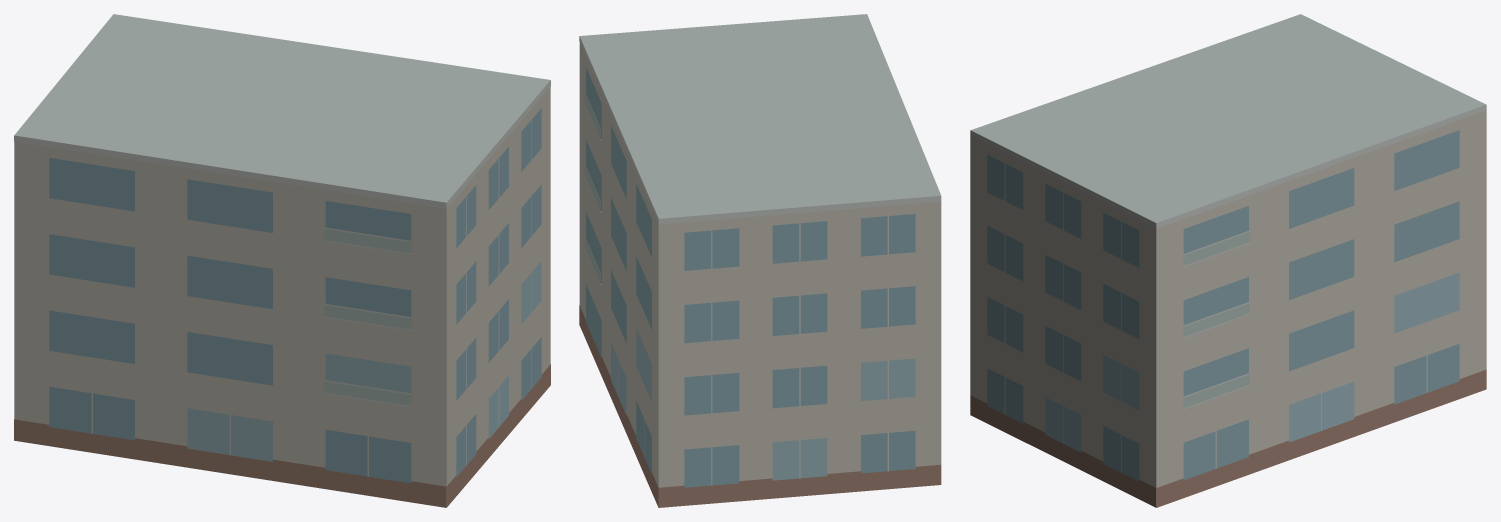
File: survey-upis-32768461.glb
3 views of the same model, side by side, from view 1: azimuth 30°, elevation 25°; view 2: azimuth 150°, elevation 25°; view 3: azimuth 270°, elevation 25° (orthographic). The views are drawn at different scales.
Parts seen in each view (by area): view 1: survey-upis-32768461.tmp; view 2: survey-upis-32768461.tmp; view 3: survey-upis-32768461.tmp.
Part boxes in pixels (bbox=[...]): survey-upis-32768461.tmp: bbox=[14, 14, 550, 507]; survey-upis-32768461.tmp: bbox=[579, 14, 941, 507]; survey-upis-32768461.tmp: bbox=[970, 14, 1486, 507].
Size of the model in its own units: 19.22 by 12.2 by 20.05.
